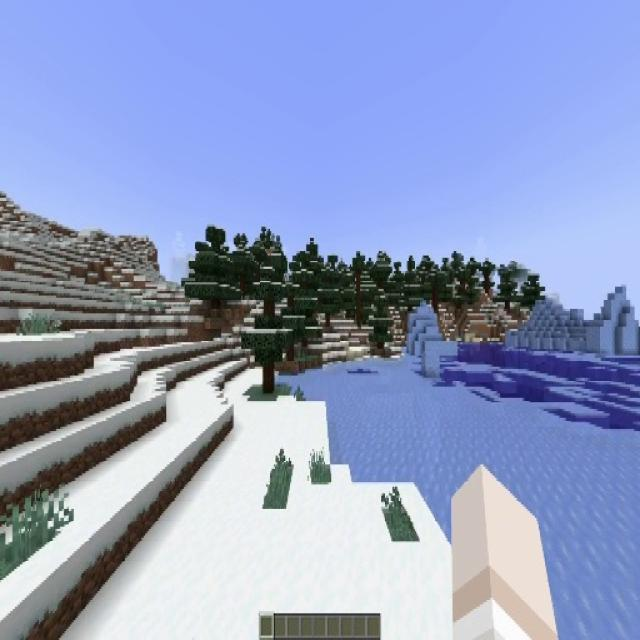spruce: (242, 263, 296, 395)
spruce_log: (263, 365, 274, 395), (356, 276, 360, 323), (433, 285, 438, 313), (326, 314, 330, 327), (378, 342, 383, 348)
